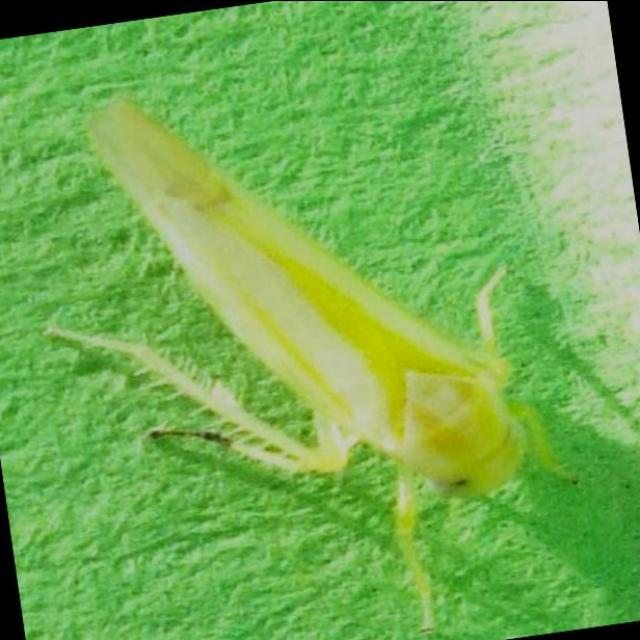green leaf hopper: (50, 98, 566, 623)
